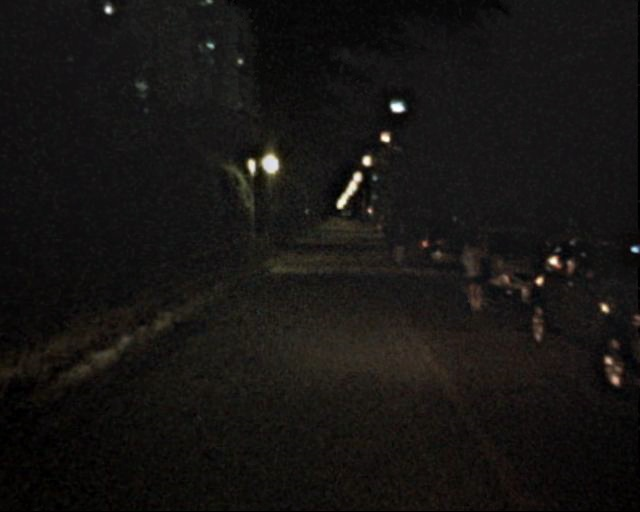person: (453, 231, 489, 320), (388, 220, 406, 263), (378, 223, 392, 257)
